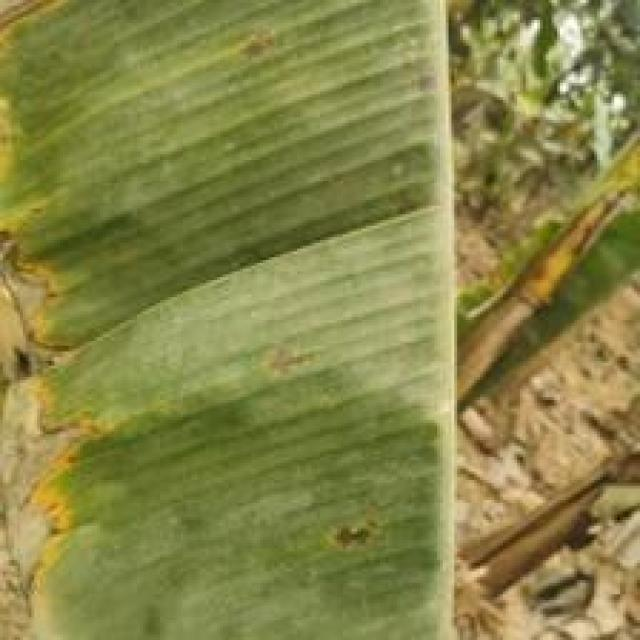Downey_mildrew: (3, 1, 185, 640), (300, 499, 404, 564), (248, 331, 329, 392), (218, 33, 301, 84)
